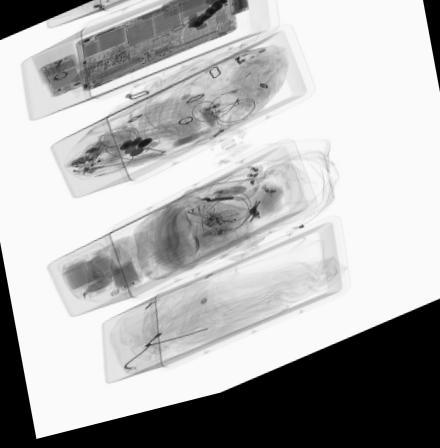Powerbank: (226, 0, 249, 28)
